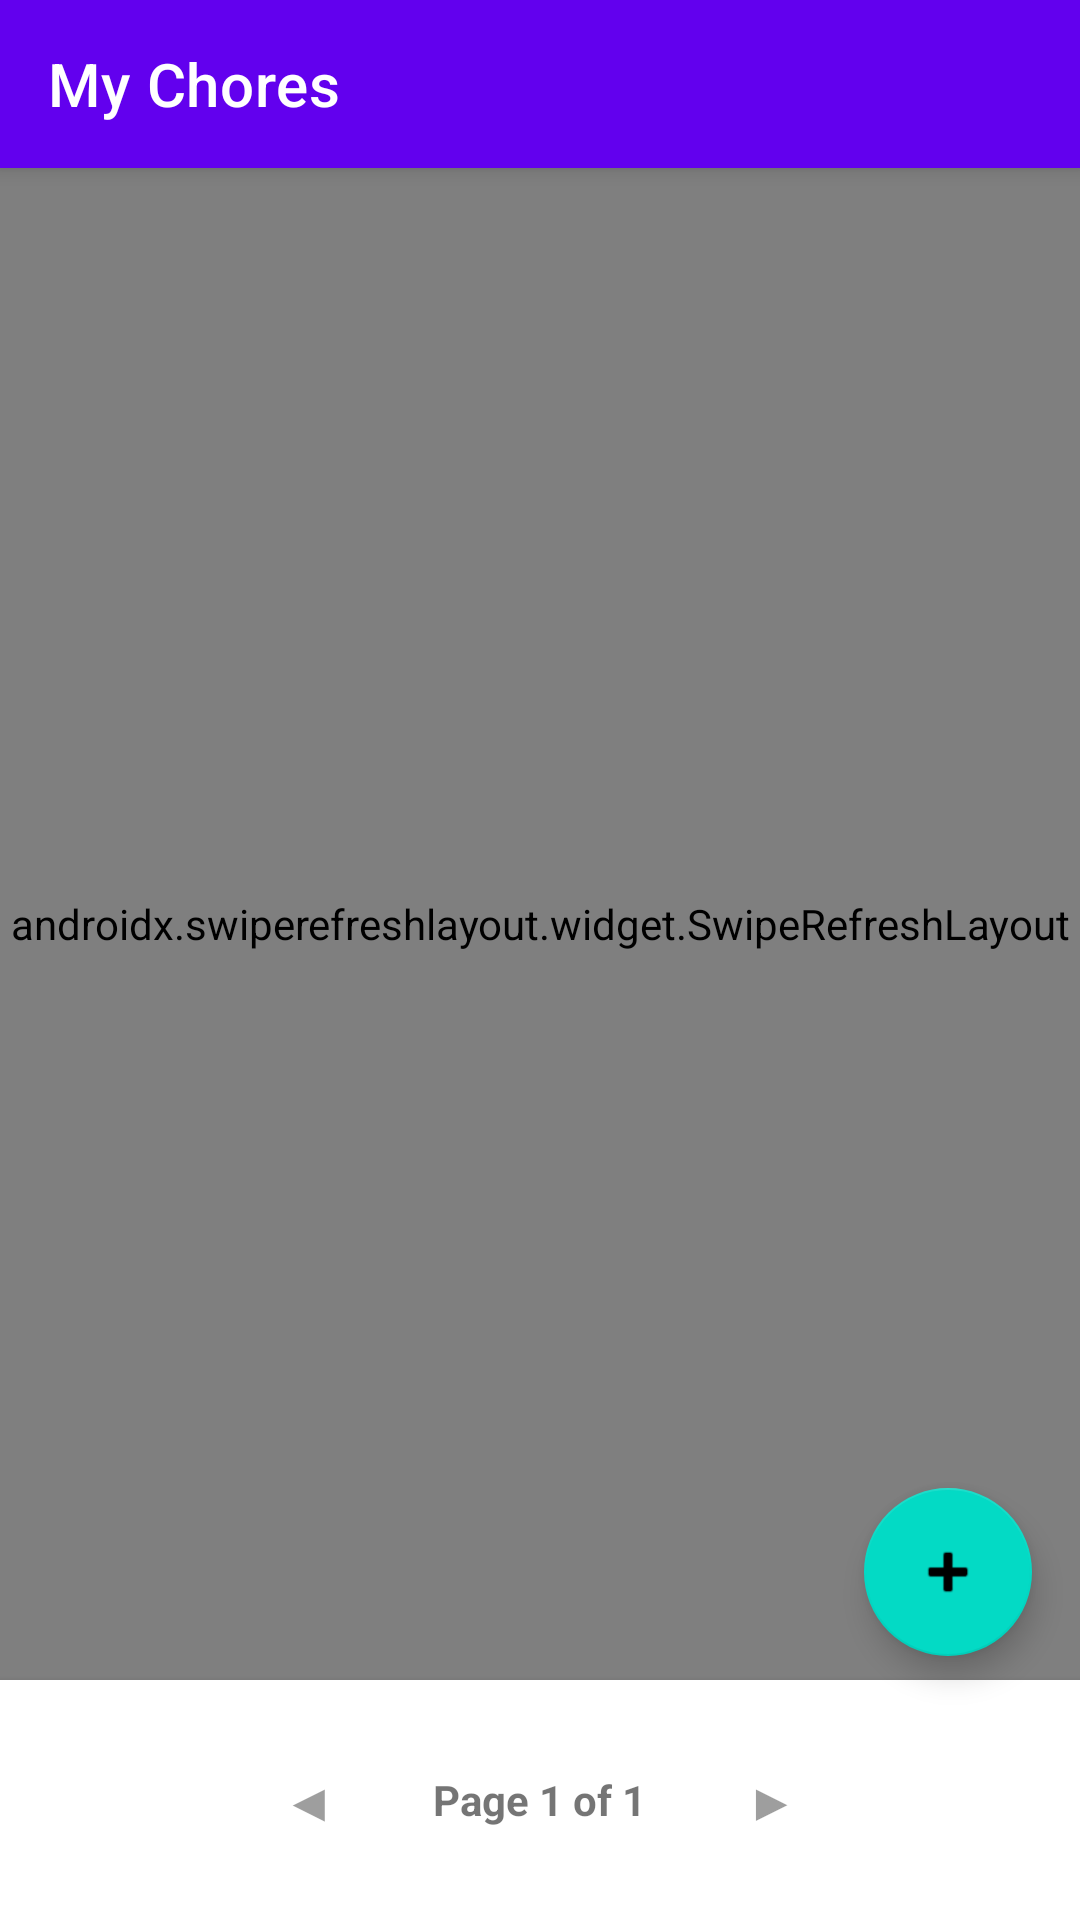

Icon click points for this 1080 × 1920 phone screenshot, format (x=x, y=y):
Add Chore: (x=948, y=1572)
